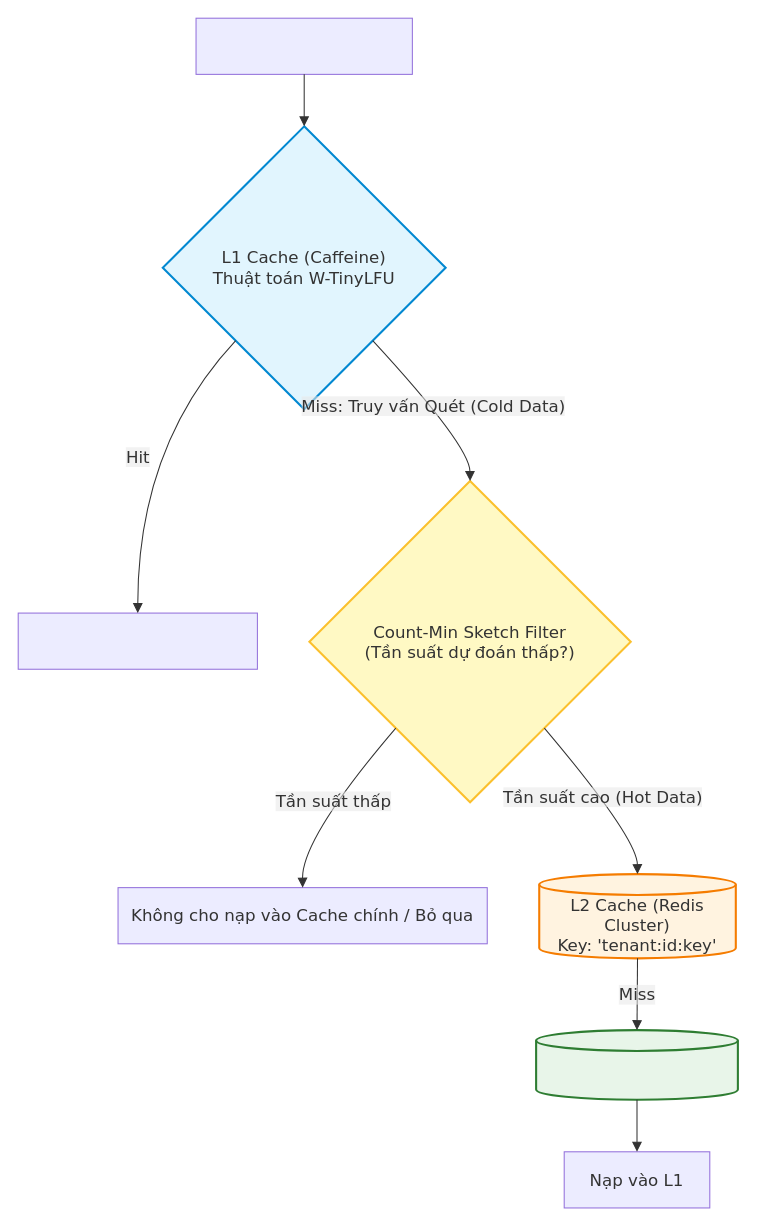
Image size: 757x1226. Some labels were removed from this diagram. Each missing label, with the centre of its shape:
PostgreSQL RLS Database: (x=636, y=1064)
Trả về kết quả tức thời: (x=137, y=640)
Yêu cầu Đọc Dữ liệu: (x=303, y=45)
